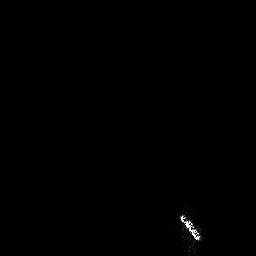ship: (178, 211, 204, 244)
